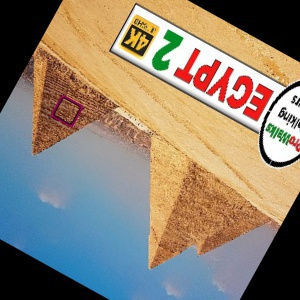square: (50, 94, 85, 127)
